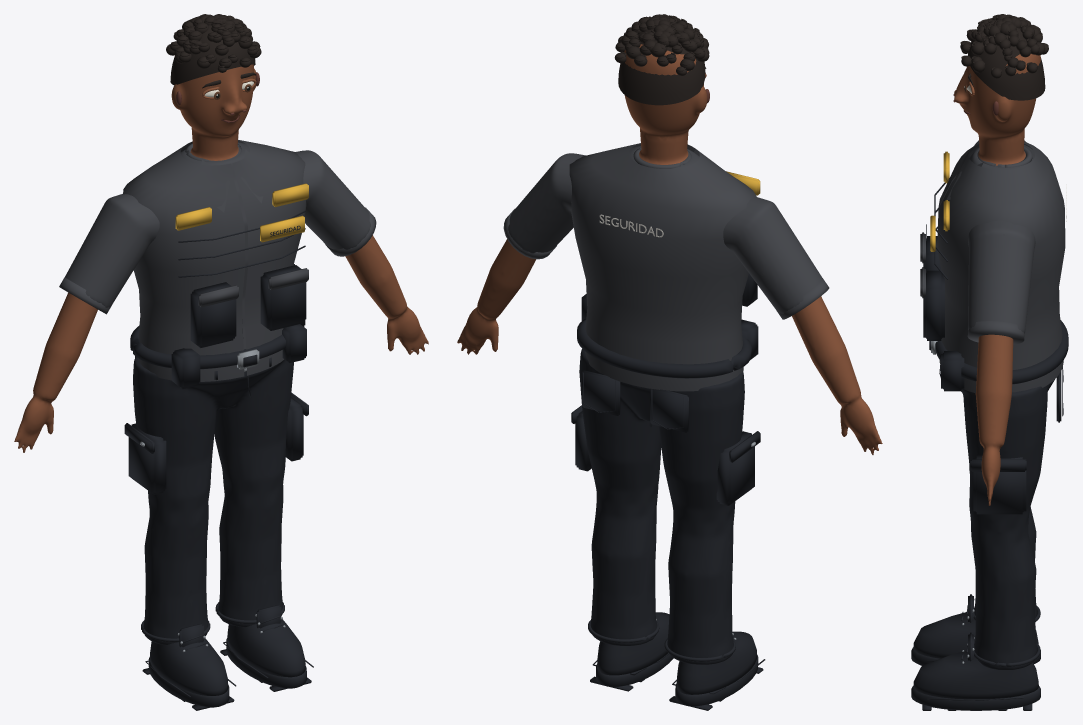
Rendered from NPC2_11_Security_Male.fbx.
3 views of the same model, side by side, from view 1: azimuth 30°, elevation 25°; view 2: azimuth 150°, elevation 25°; view 3: azimuth 270°, elevation 25° (orthographic). The views are drawn at different scales.
Parts seen in each view (by area): view 1: Trouser_Continuous.012, Security_Vest, Skin_11_Security_Male, Garment_Top_Continuous.012, Shoe_Upper.024, Shoe_Upper.025, Vest_FrontPouch, Vest_FrontPouch.001, Cargo_Pocket.010, Duty_Belt.002, Hair_Cap.012, Duty_Pouch.004 (+5 smaller); view 2: Security_Vest, Trouser_Continuous.012, Skin_11_Security_Male, Garment_Top_Continuous.012, Duty_Belt.002, Hair_Cap.012, Shoe_Upper.024, Shoe_Upper.025, Cargo_Pocket.010, Back_Pocket.024, Back_Pocket.025, Shoe_Sole.024 (+2 smaller); view 3: Security_Vest, Trouser_Continuous.012, Skin_11_Security_Male, Garment_Top_Continuous.012, Shoe_Upper.025, Hair_Cap.012, Cargo_Pocket.011, Shoe_Upper.024, Shoe_Sole.025, Vest_FrontPouch.001, Duty_Belt.002, Duty_Pouch.005 (+7 smaller).
Boxes of the visible parts, x1,y1,x2,y2 form: Trouser_Continuous.012: (133, 357, 293, 644); Security_Vest: (123, 139, 306, 381); Skin_11_Security_Male: (14, 55, 428, 452); Garment_Top_Continuous.012: (65, 142, 370, 349); Shoe_Upper.024: (150, 638, 228, 695); Shoe_Upper.025: (227, 619, 305, 677); Vest_FrontPouch: (190, 282, 236, 347); Vest_FrontPouch.001: (260, 265, 306, 330); Cargo_Pocket.010: (128, 423, 166, 494); Duty_Belt.002: (130, 326, 285, 369); Hair_Cap.012: (170, 25, 255, 84); Duty_Pouch.004: (171, 348, 200, 388); Security_Vest: (569, 143, 756, 391); Trouser_Continuous.012: (579, 349, 744, 664); Skin_11_Security_Male: (457, 44, 882, 454); Garment_Top_Continuous.012: (508, 146, 822, 313); Duty_Belt.002: (577, 318, 751, 378); Hair_Cap.012: (618, 24, 705, 105); Shoe_Upper.024: (676, 631, 756, 694); Shoe_Upper.025: (597, 612, 669, 675); Cargo_Pocket.010: (716, 431, 754, 505); Back_Pocket.024: (650, 388, 688, 432); Back_Pocket.025: (582, 370, 620, 415); Shoe_Sole.024: (675, 654, 758, 706); Security_Vest: (937, 141, 1065, 393); Trouser_Continuous.012: (961, 379, 1054, 669); Skin_11_Security_Male: (954, 54, 1040, 505); Garment_Top_Continuous.012: (956, 140, 1035, 333); Shoe_Upper.025: (913, 650, 1038, 699); Hair_Cap.012: (967, 27, 1045, 100); Cargo_Pocket.011: (973, 454, 1026, 514); Shoe_Upper.024: (913, 612, 1038, 658); Shoe_Sole.025: (911, 686, 1040, 710); Vest_FrontPouch.001: (923, 270, 944, 340); Duty_Belt.002: (935, 320, 1068, 384); Duty_Pouch.005: (941, 351, 964, 391).
Size of the model in its own units: 1.24 by 1.86 by 0.4003.
